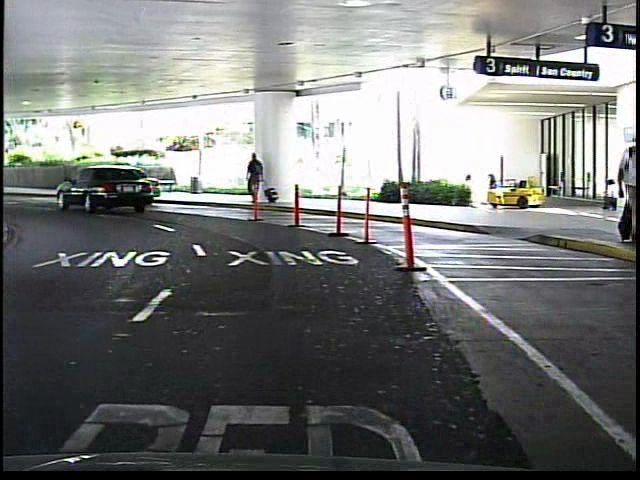person: (612, 114, 639, 246), (244, 151, 270, 209)
